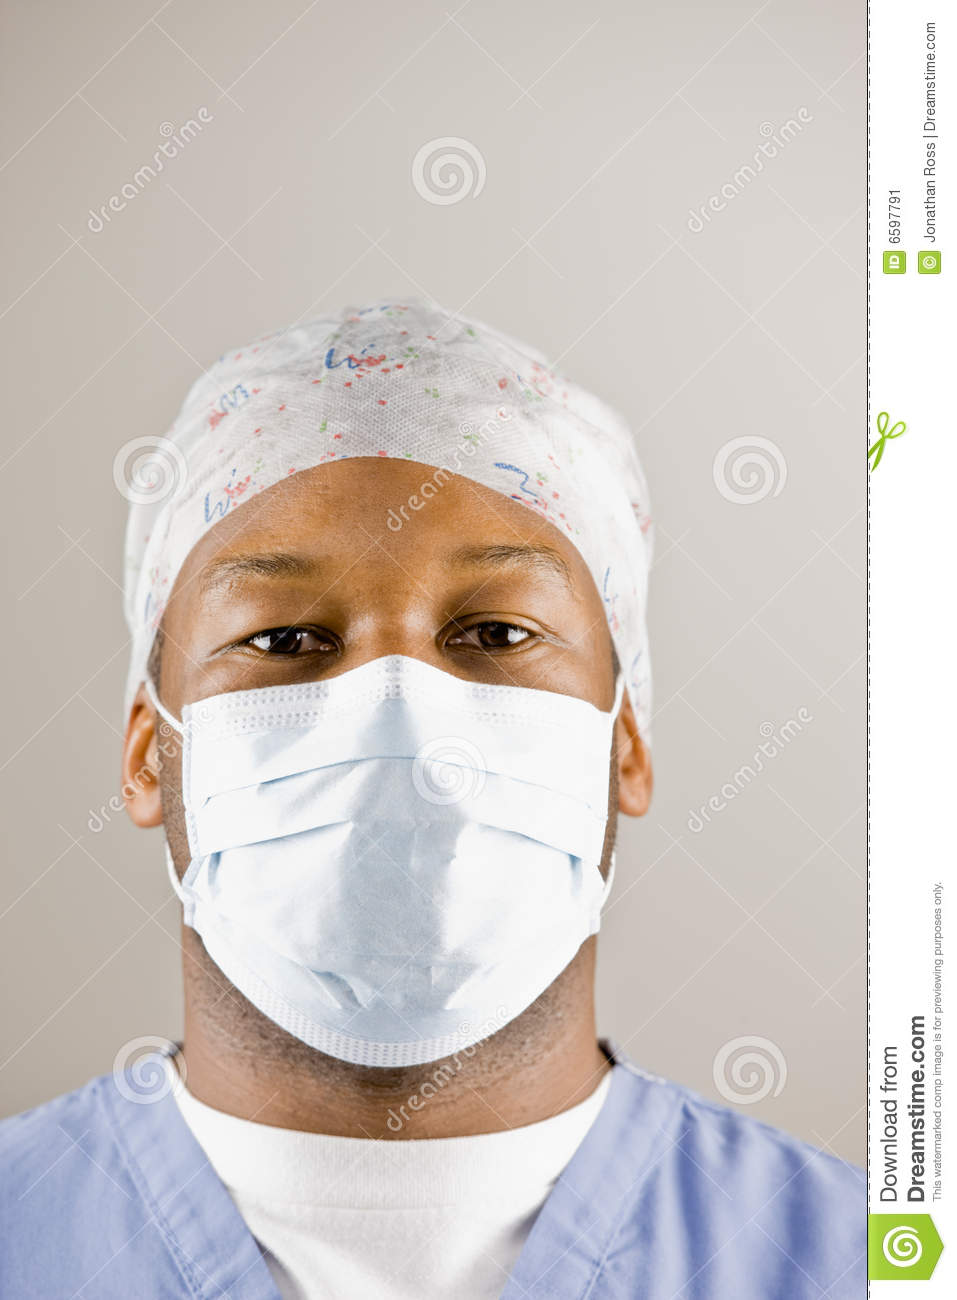mask: (174, 679, 622, 1069)
